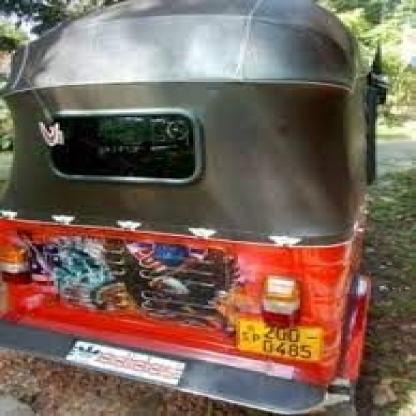number plate: (235, 318, 315, 360)
three wheeler back: (0, 0, 388, 410)
